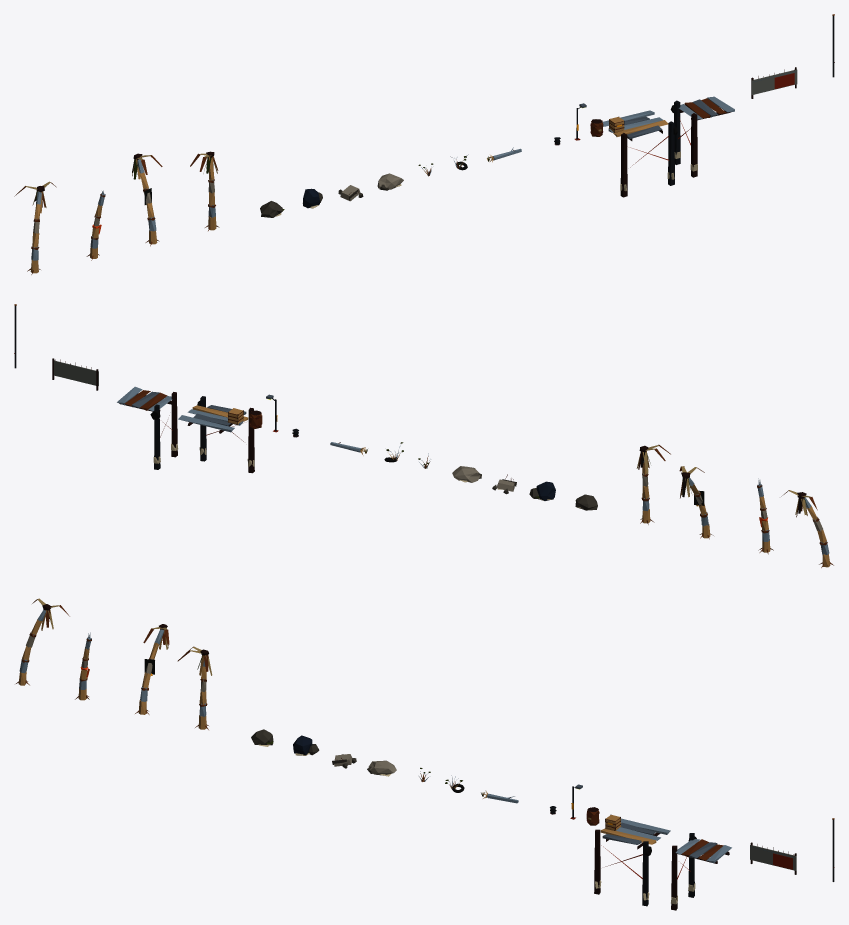
The model's file is tb_coast_kit.three-web-toon.lod50.glb.
The picture shows the model from 3 angles, top to bottom: view 1: azimuth 30°, elevation 25°; view 2: azimuth 150°, elevation 25°; view 3: azimuth 330°, elevation 25°; orthographic projection.
Parts seen in each view (by area): view 1: pier_section_lod, finger_section_lod, dead_palm_c_lod, fence_panel_lod, dead_palm_a_lod, dead_palm_d_lod; view 2: pier_section_lod, finger_section_lod, fence_panel_lod, dead_palm_a_lod, dead_palm_c_lod, dead_palm_d_lod, dead_palm_b_lod; view 3: pier_section_lod, finger_section_lod, dead_palm_c_lod, dead_palm_a_lod, fence_panel_lod, dead_palm_d_lod.
Boxes of the visible parts, x1=… form: pier_section_lod: x1=602, y1=110, x2=677, y2=197; finger_section_lod: x1=670, y1=96, x2=734, y2=177; dead_palm_c_lod: x1=132, y1=153, x2=162, y2=246; fence_panel_lod: x1=751, y1=67, x2=797, y2=98; dead_palm_a_lod: x1=14, y1=181, x2=56, y2=274; dead_palm_d_lod: x1=190, y1=151, x2=219, y2=230; pier_section_lod: x1=178, y1=396, x2=254, y2=473; finger_section_lod: x1=117, y1=386, x2=178, y2=469; fence_panel_lod: x1=52, y1=358, x2=98, y2=390; dead_palm_a_lod: x1=781, y1=490, x2=833, y2=567; dead_palm_c_lod: x1=679, y1=466, x2=713, y2=539; dead_palm_d_lod: x1=636, y1=444, x2=670, y2=524; dead_palm_b_lod: x1=757, y1=478, x2=773, y2=554; pier_section_lod: x1=594, y1=818, x2=670, y2=906; finger_section_lod: x1=671, y1=833, x2=731, y2=910; dead_palm_c_lod: x1=135, y1=624, x2=169, y2=714; dead_palm_a_lod: x1=16, y1=598, x2=69, y2=685; fence_panel_lod: x1=750, y1=842, x2=796, y2=874; dead_palm_d_lod: x1=177, y1=646, x2=212, y2=729.
Size of the model in its own units: 81.75 by 12.87 by 6.23.
